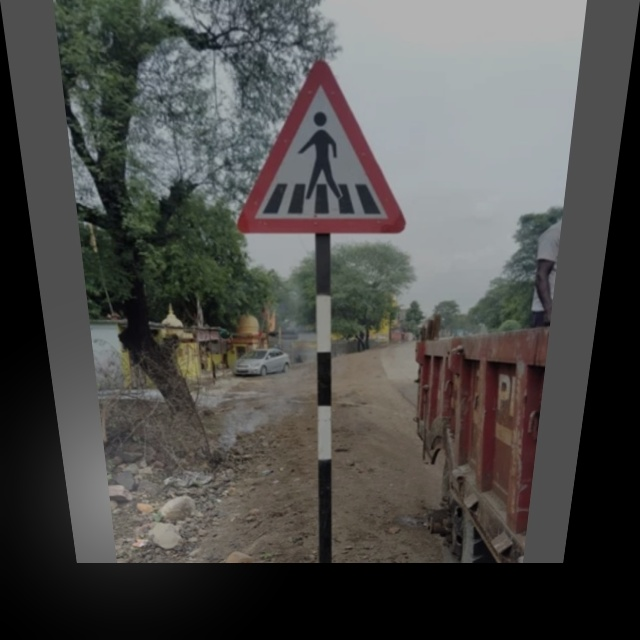Pedestrian_Crossing: (233, 64, 422, 238)
